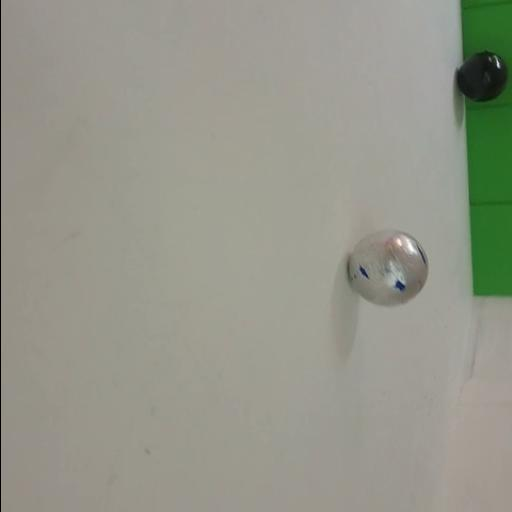alive: (346, 228, 428, 308)
dead: (455, 49, 509, 103)
